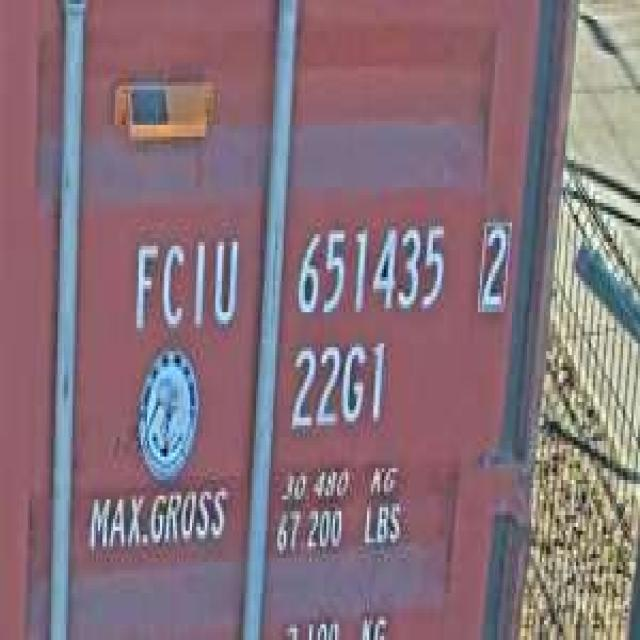dv: (472, 207, 514, 320)
owner: (124, 226, 243, 336)
serial: (290, 211, 450, 324)
size: (286, 332, 388, 441)
